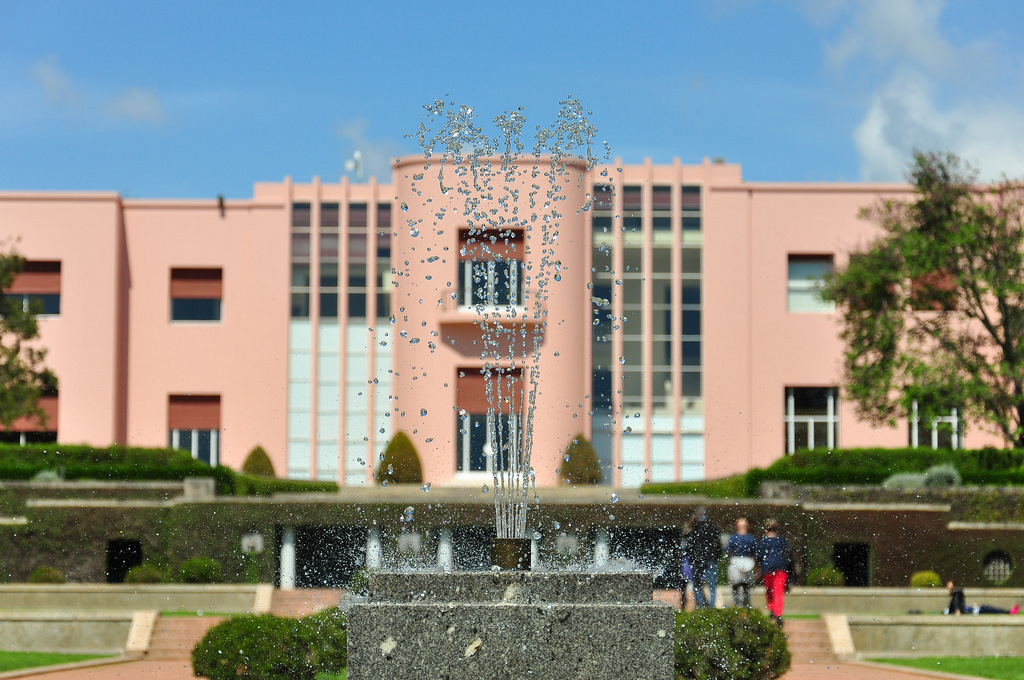serralves: (0, 154, 1023, 487)
